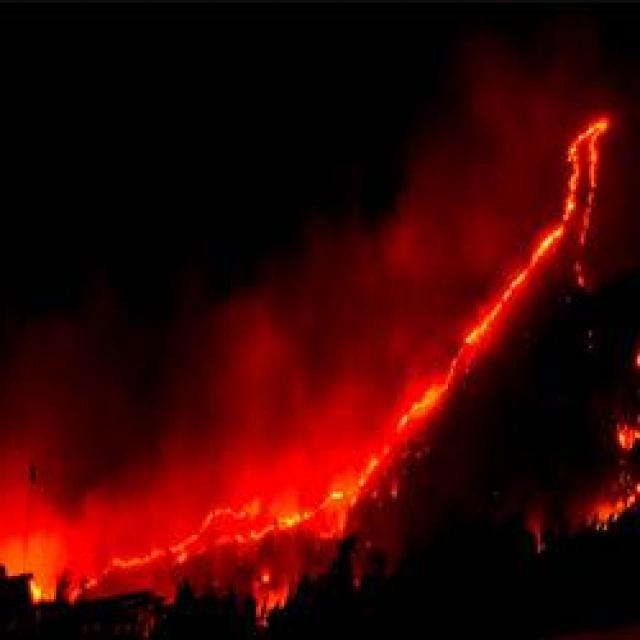fire: (565, 116, 610, 211), (277, 487, 340, 532), (528, 222, 568, 266), (489, 274, 519, 316), (402, 388, 438, 422), (19, 582, 45, 608)
smoke: (215, 302, 377, 450), (0, 412, 200, 521), (363, 174, 477, 322), (446, 70, 560, 206)
